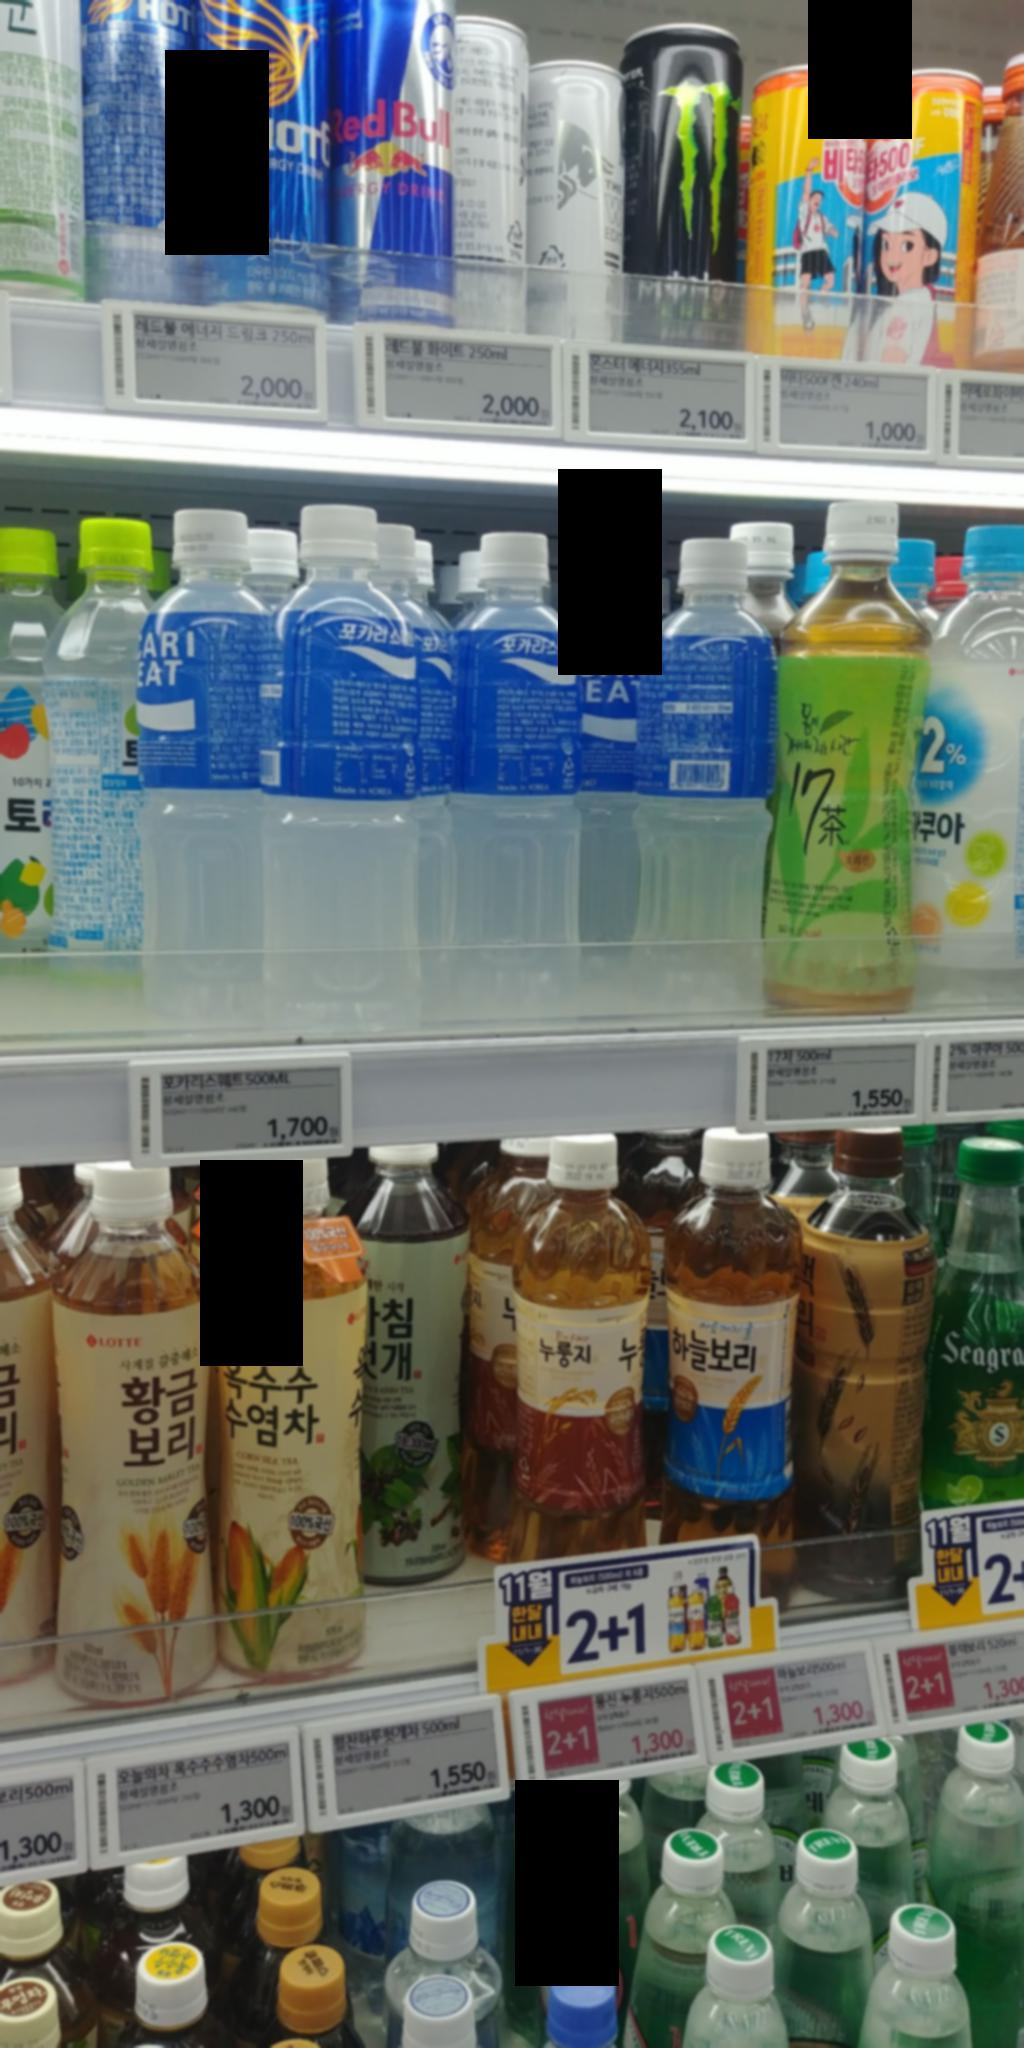haneulbori: (657, 1100, 819, 1607)
hotsix_org: (67, 0, 209, 310), (202, 0, 329, 323)
pocarisweat: (263, 502, 428, 1041), (149, 516, 298, 1037), (445, 520, 590, 1041), (623, 524, 772, 1031)
